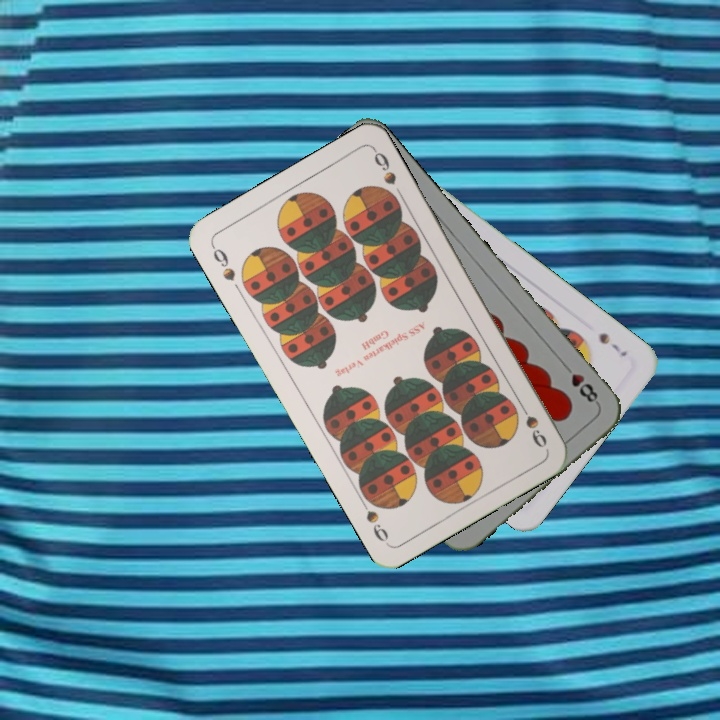H8: (558, 359, 602, 408)
S7: (595, 328, 630, 360)
S9: (514, 397, 550, 451), (207, 240, 238, 284)
